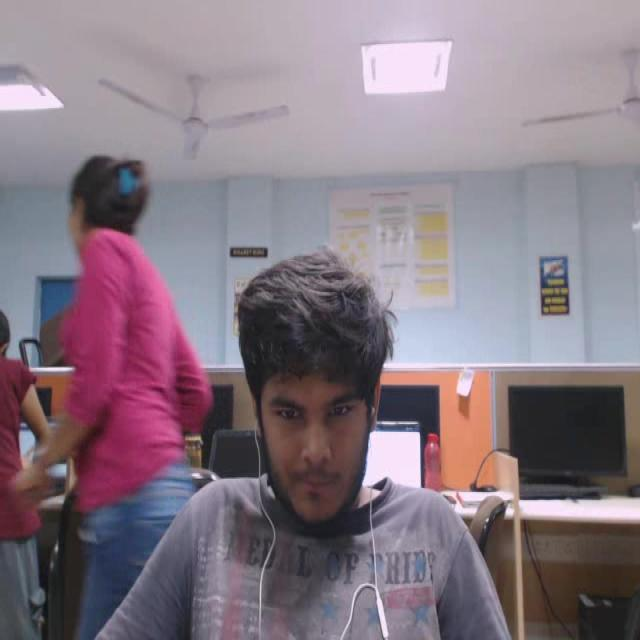Engaged: (224, 242, 425, 553)
